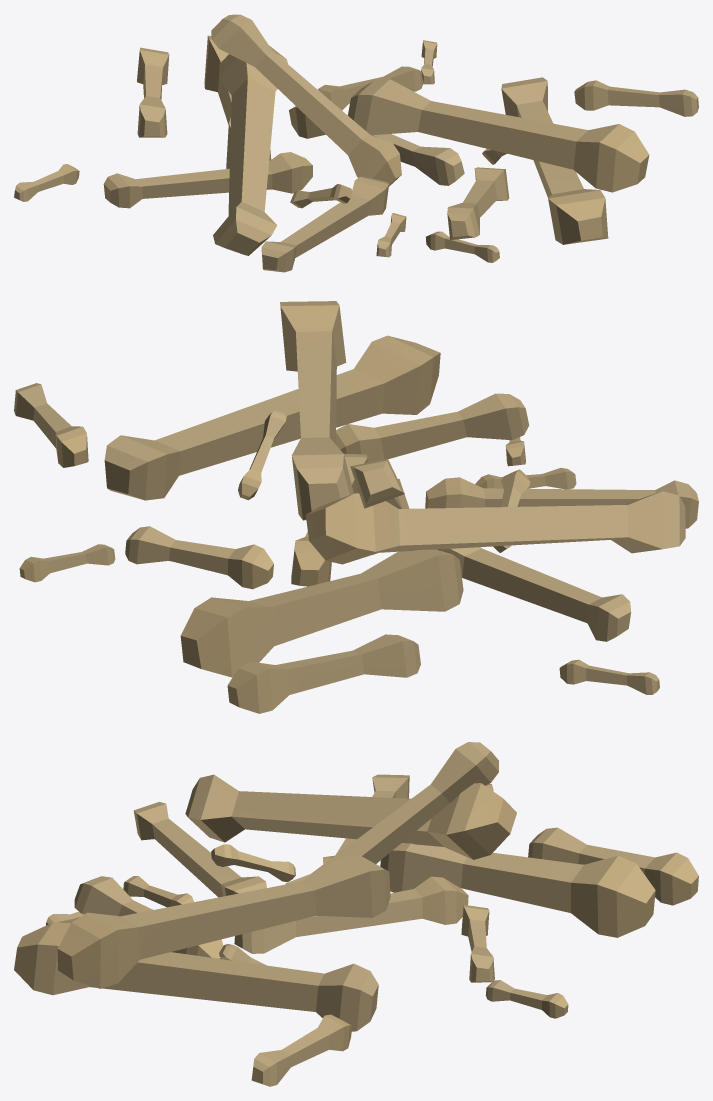
File: Bone_pile_D.fbx
The picture shows the model from 3 angles, top to bottom: view 1: azimuth 30°, elevation 25°; view 2: azimuth 150°, elevation 25°; view 3: azimuth 270°, elevation 25°; orthographic projection. The views are drawn at different scales.
Parts seen in each view (by area): view 1: Bone_pile_D; view 2: Bone_pile_D; view 3: Bone_pile_D.
Part boxes in pixels (left/top/right/bottom): Bone_pile_D: left=14, top=14, right=698, bottom=272; Bone_pile_D: left=14, top=301, right=698, bottom=713; Bone_pile_D: left=14, top=742, right=698, bottom=1086.
Size of the model in its own units: 86.71 by 18.33 by 75.74.
